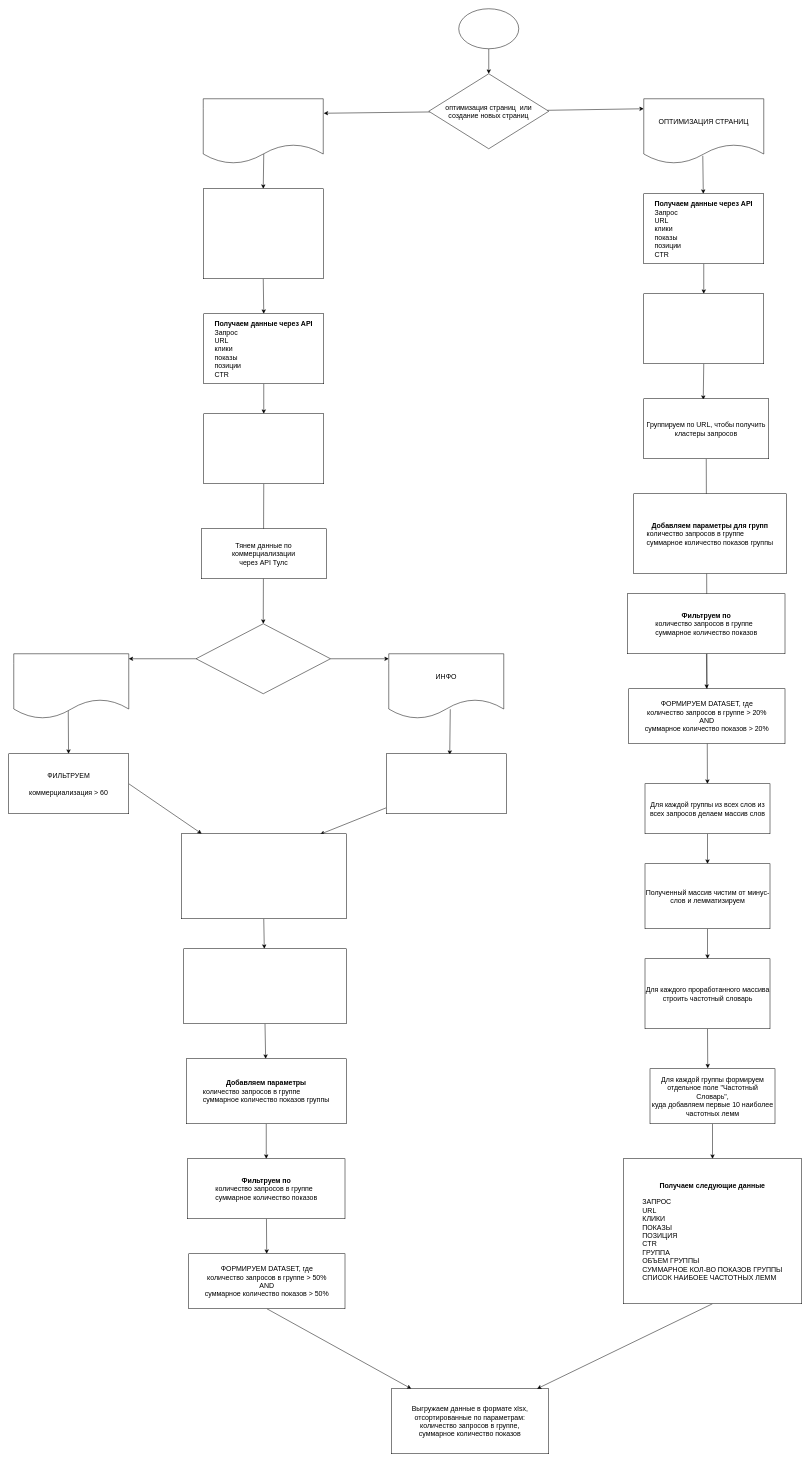
Image size: 811x1463. Some labels were removed from this diagram. The centre of each missing label's shape, as x and y in pixels:
START: point (488, 28)
ВВОДИМ адрес сайта тип: коммерция / инфо список минус-слов диапазон = 1 месяц: point (263, 233)
Группируем по полю "запрос": point (264, 986)
КОММЕРЦИЯ: point (71, 686)
КОММЕРЦИЯ / ИНФО: point (263, 658)
СОЗДАНИЕ НОВЫХ СТРАНИЦ: point (263, 131)
Фильтруем данные 3 > позиции > 15 чистим по минус-словам убираем дубли: point (703, 328)
Фильтруем данные позиции > N чистим по минус-словам убираем дубли: point (263, 448)
ФИЛЬТРУЕМ коммерциализация < 60: point (446, 783)
ФОРМИРУЕМ DATASET запрос url клики показы CTR позиция коммерциализация: point (263, 876)
